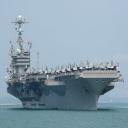Portanaves: (5, 13, 126, 112)
